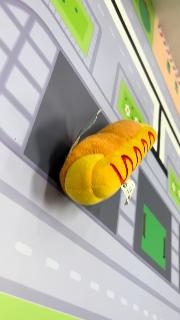hotdog: (59, 118, 158, 206)
